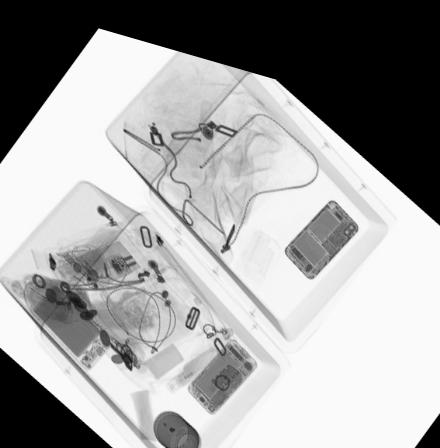Powerbank: (28, 277, 114, 370)
